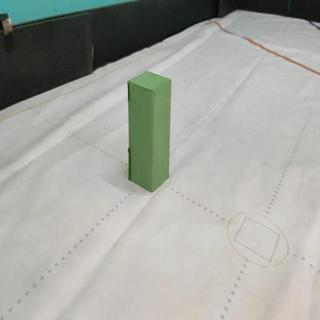greenbox: (128, 72, 173, 191)
